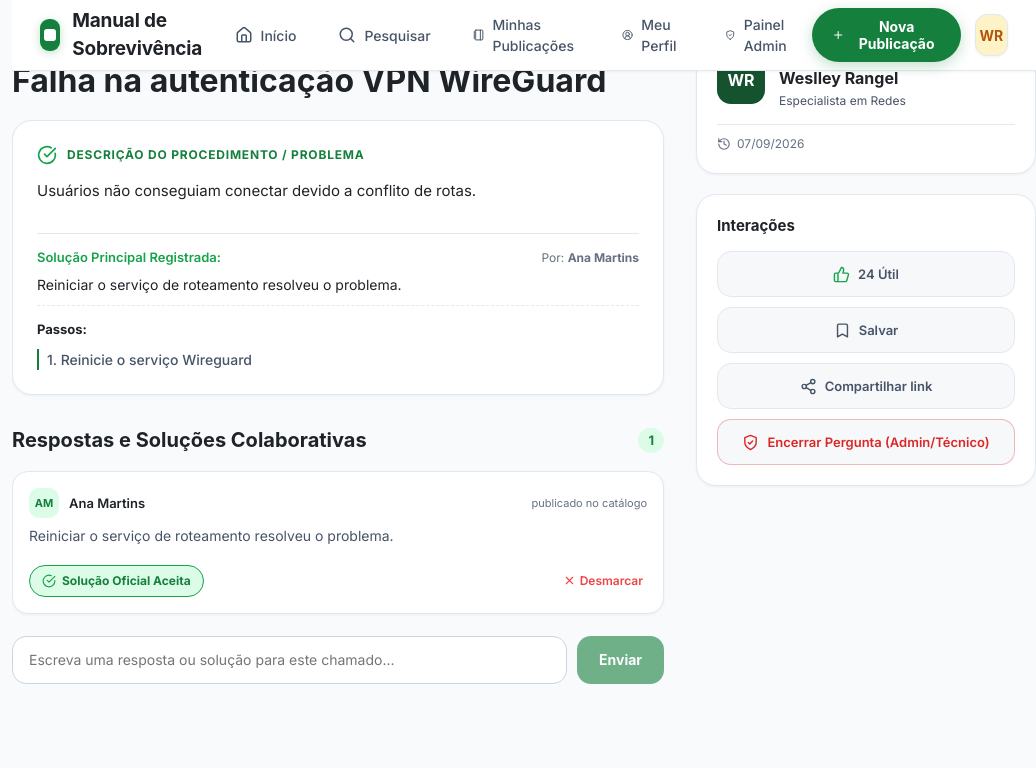
Test: PublicationDetail Page › permite adicionar uma nova solução/resposta real à lista
(page scrolled)
Check: the button "Enviar" is disabled, box 577,636 -> 664,684
Type "Procedimento validado com sucesso pela equipe." into the field with placeholder "Escreva uma resposta ou solução para este chamado...".
click(290, 660); type("Procedimento validado com sucesso pela equipe.")  # box 12,636 -> 567,684
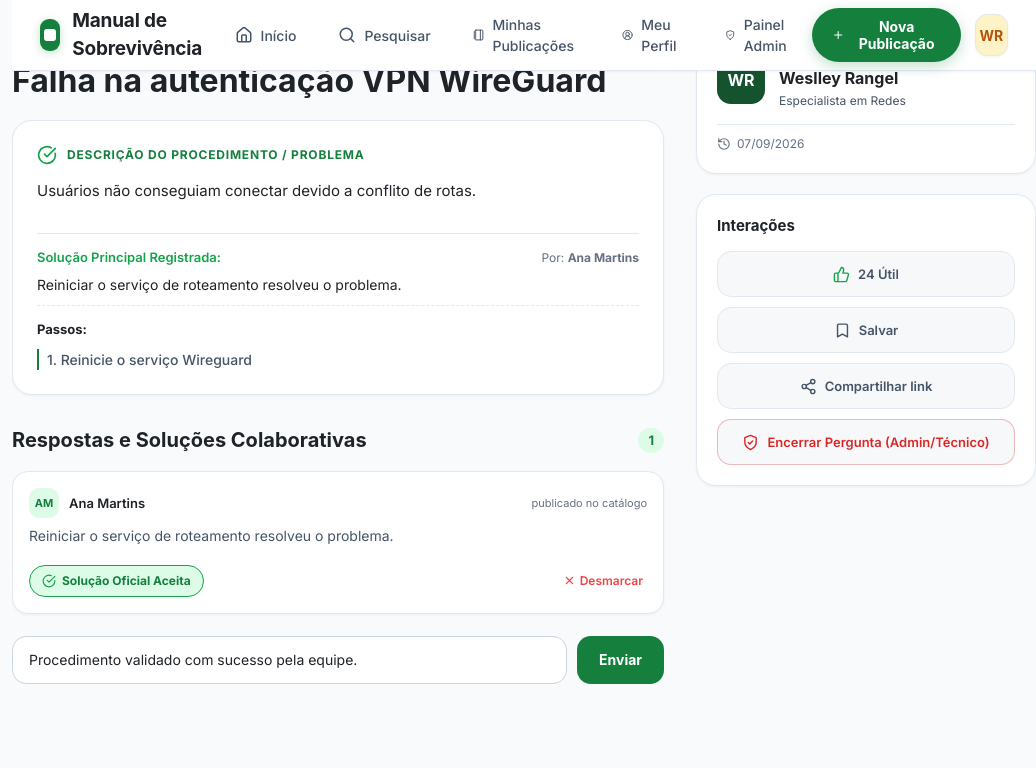
Check: the button "Enviar" is enabled
Click the button "Enviar".
click(620, 660)  # box 577,636 -> 664,684
(page scrolled)
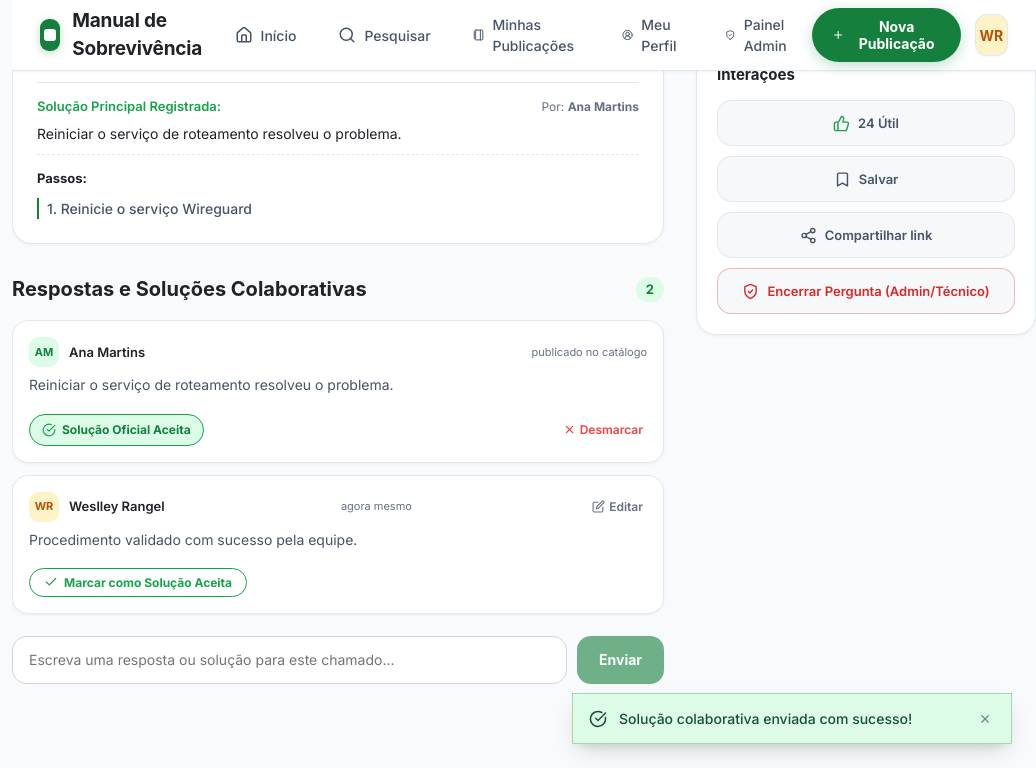
Check: the text "Procedimento validado com sucesso pela equipe." is shown, box 29,531 -> 357,548
Check: the field with placeholder "Escreva uma resposta ou solução para este chamado..." is empty, box 12,636 -> 567,684
